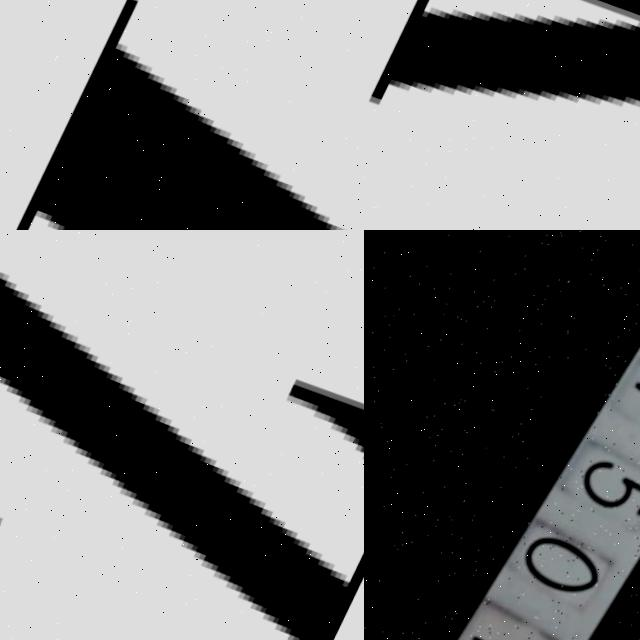0: (509, 509, 640, 622)
1: (458, 592, 584, 640)
5: (567, 436, 640, 541)
7: (608, 349, 640, 466)
D: (0, 0, 364, 230)
K: (364, 0, 640, 230)
Z: (0, 230, 364, 640)
